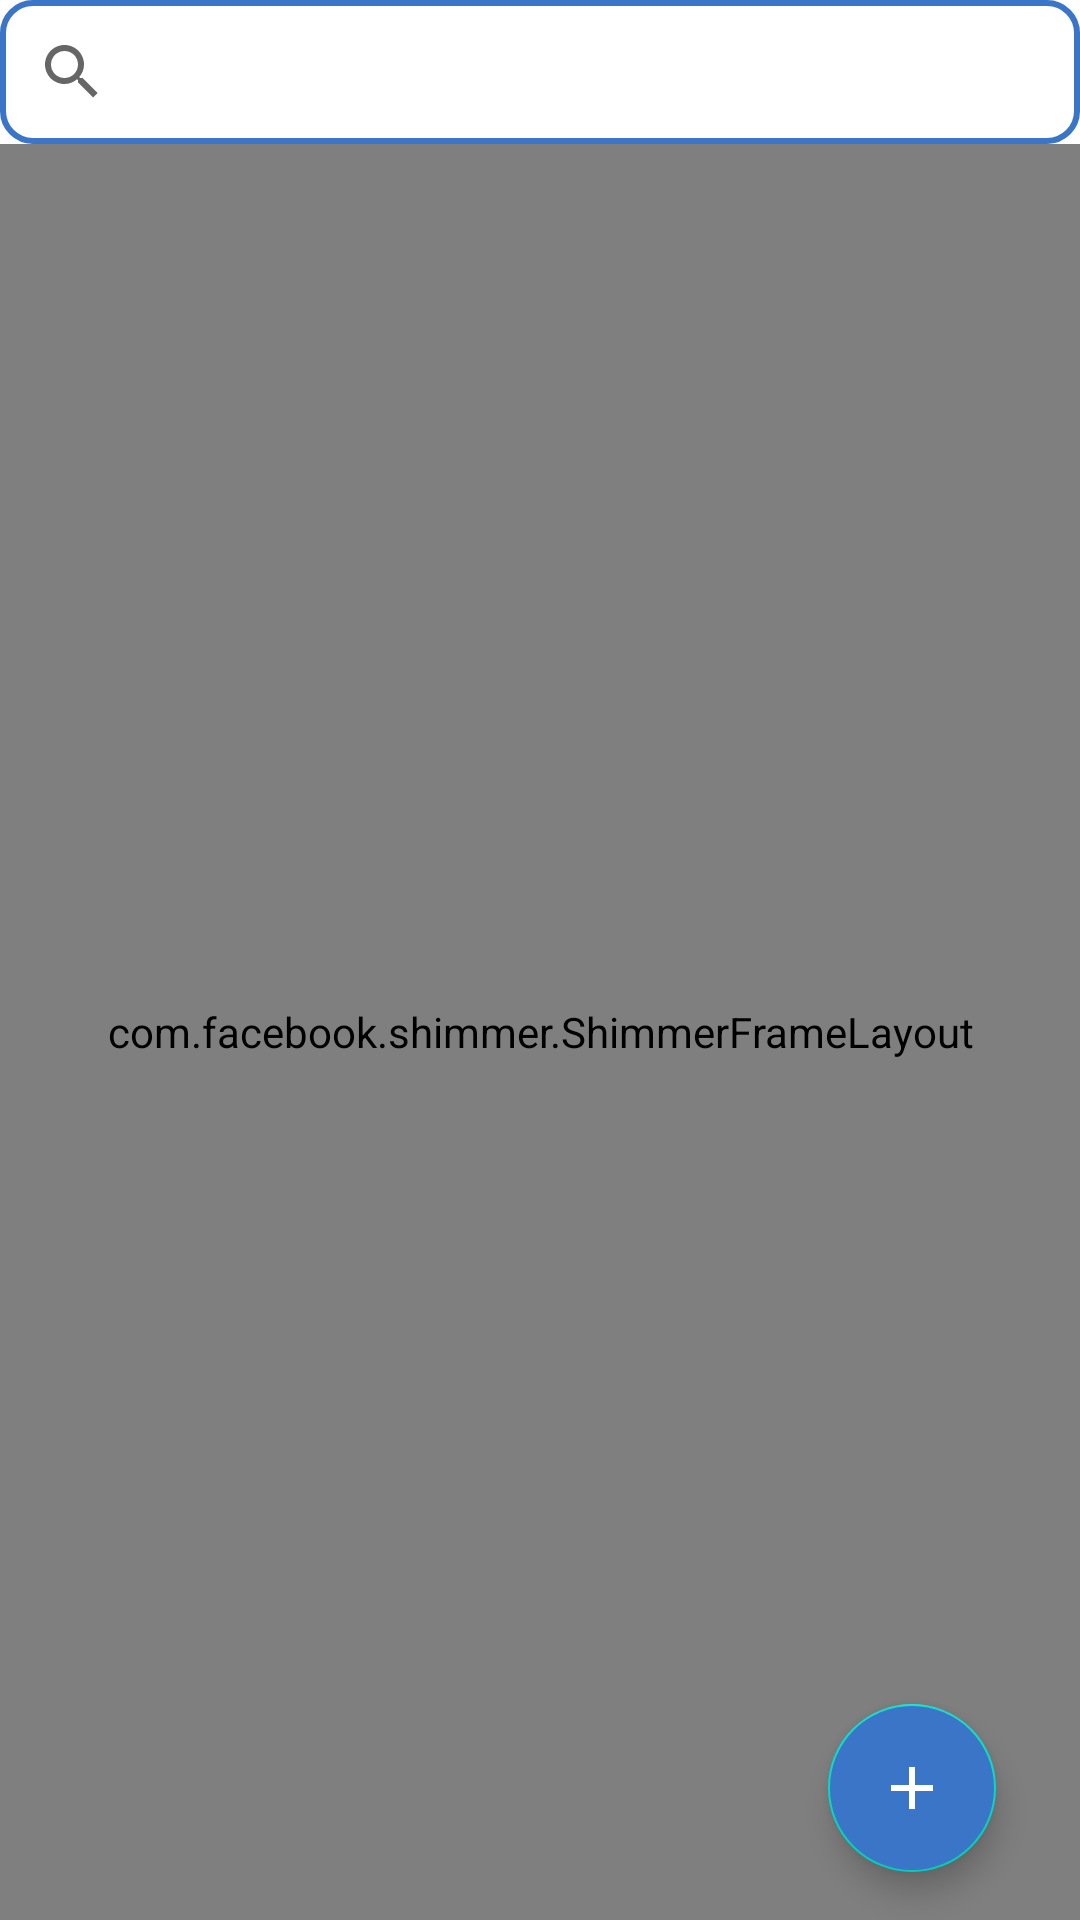

Named icons in this screenshot (1080x1920) and their bounding boxes, bbox=[x1, y1, x2, y2]:
add: bbox=[828, 1704, 996, 1872]
